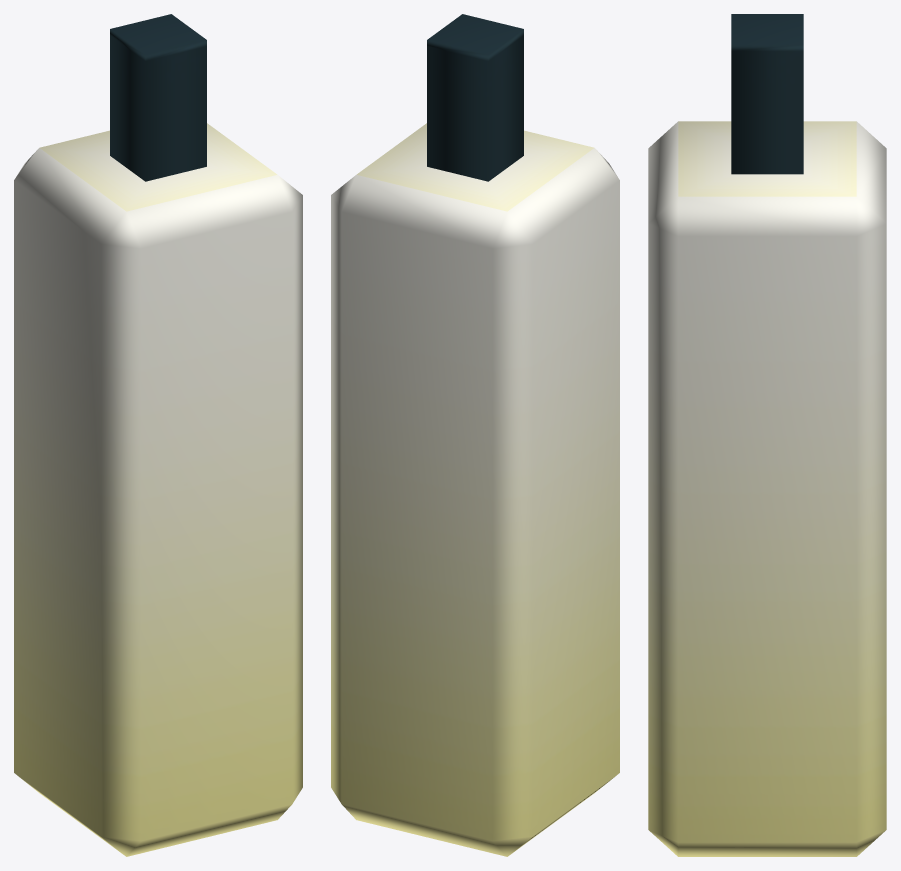
File: candle_small_1.fbx
3 views of the same model, side by side, from view 1: azimuth 30°, elevation 25°; view 2: azimuth 150°, elevation 25°; view 3: azimuth 270°, elevation 25° (orthographic). The views are drawn at different scales.
Parts seen in each view (by area): view 1: candle_small_1; view 2: candle_small_1; view 3: candle_small_1.
Part boxes in pixels (x1,y1,x2,y2): candle_small_1: (14,14,302,856); candle_small_1: (331,14,619,856); candle_small_1: (648,14,886,856).
Bounding box in the file's own units: 18.51 × 67.71 × 18.51.
1 material, 1 textured.
